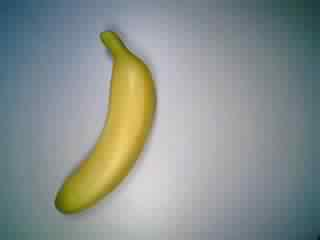banana: (51, 21, 161, 221)
